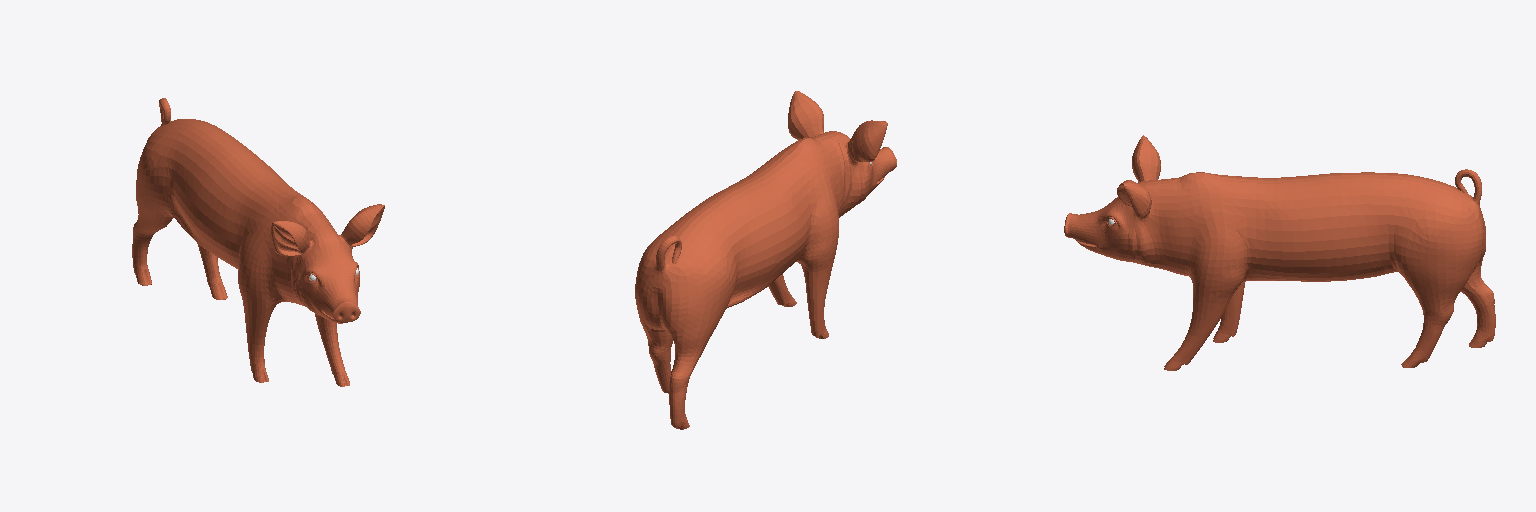
File: sika3.obj
3 renders of one model, left to right at view 1: azimuth 30°, elevation 25°; view 2: azimuth 150°, elevation 25°; view 3: azimuth 270°, elevation 25°, orthographic.
Parts seen in each view (by area): view 1: sika3-COM-Pig_Table-295070-Color_B03; view 2: sika3-COM-Pig_Table-295070-Color_B03; view 3: sika3-COM-Pig_Table-295070-Color_B03.
Boxes of the visible parts, box(x1,y1,x2,y2) form: sika3-COM-Pig_Table-295070-Color_B03: box(132, 98, 384, 386); sika3-COM-Pig_Table-295070-Color_B03: box(635, 91, 896, 429); sika3-COM-Pig_Table-295070-Color_B03: box(1064, 135, 1495, 370).
Size of the model in its own units: 0.3849 by 0.6834 by 1.39.